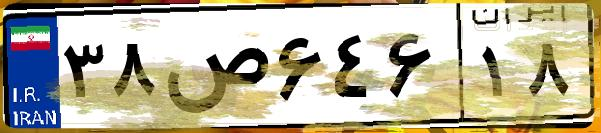1: (475, 38, 525, 113)
3: (57, 26, 110, 100)
4: (330, 28, 385, 110)
6: (270, 28, 330, 110), (385, 28, 445, 110)
8: (525, 38, 570, 115), (110, 28, 158, 98)
ص: (158, 20, 270, 120)
